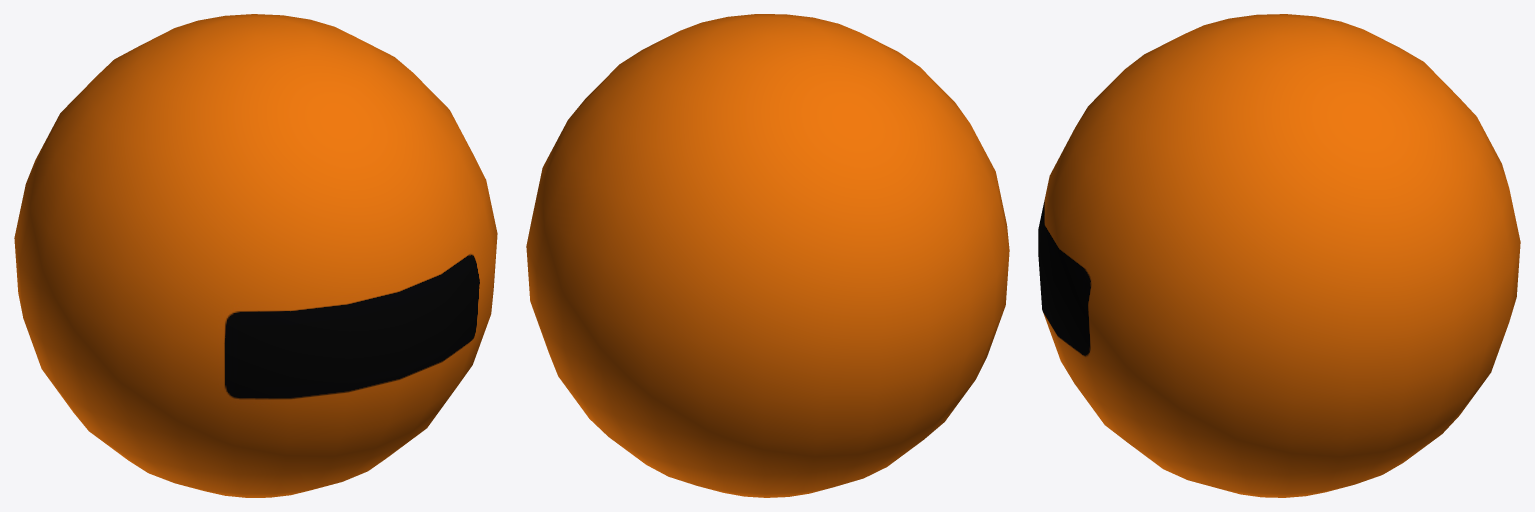
The model's file is subtra.DAE.
3 views of the same model, side by side, from view 1: azimuth 30°, elevation 25°; view 2: azimuth 150°, elevation 25°; view 3: azimuth 270°, elevation 25° (orthographic).
Visible parts, largest first — view 1: Sphere02; view 2: Sphere02; view 3: Sphere02.
Boxes of the visible parts, left/top/right/bottom form: Sphere02: left=14, top=14, right=497, bottom=497; Sphere02: left=526, top=14, right=1009, bottom=497; Sphere02: left=1038, top=14, right=1520, bottom=497.
Bounding box in the file's own units: 19.92 × 19.88 × 20.
